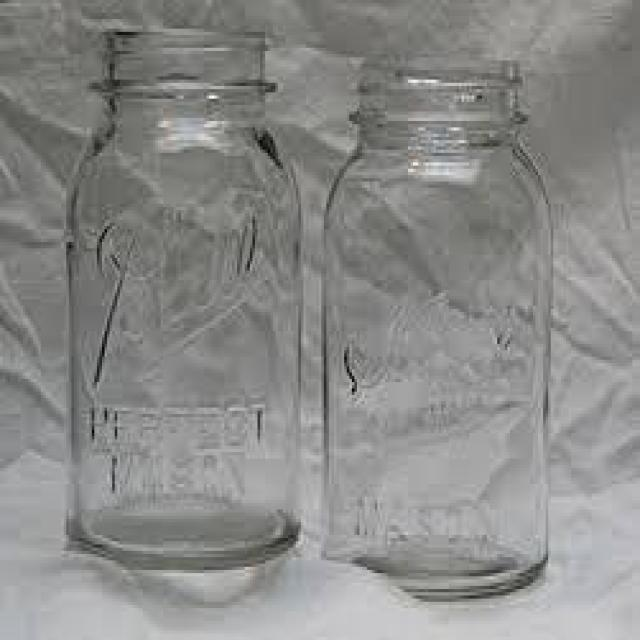Glass: (65, 28, 306, 574), (322, 73, 552, 604)
